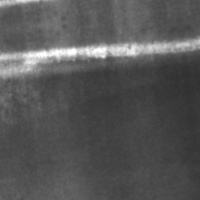scratches: (0, 29, 184, 79)
